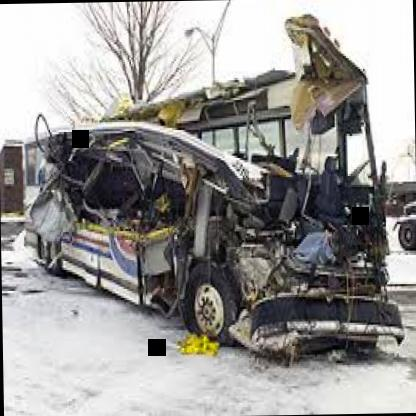accident: (24, 10, 410, 405)
